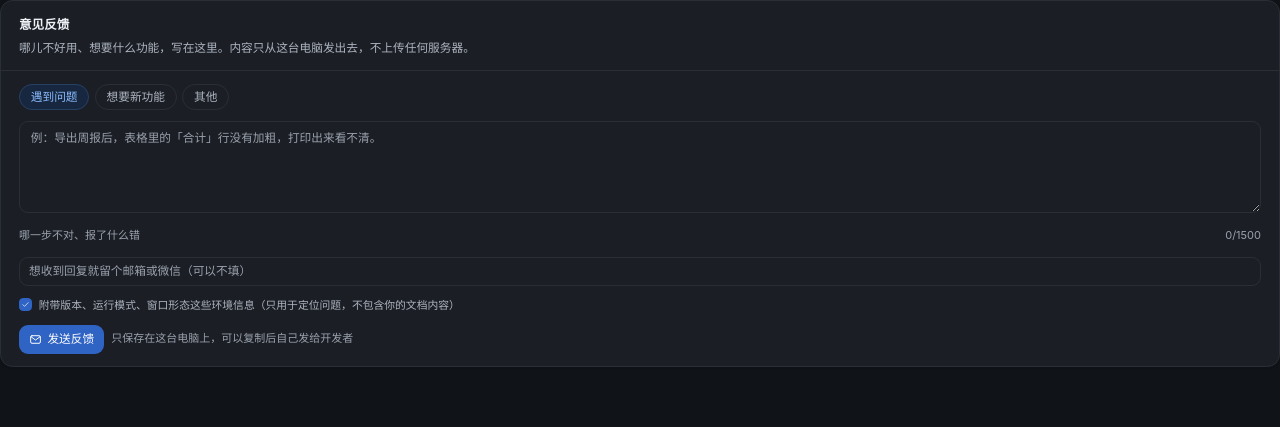
FeedbackCard › 发送时带上类型、内容与环境信息，并显示存档位置
Click the button "想要新功能": (136, 97) [95, 84, 177, 110]
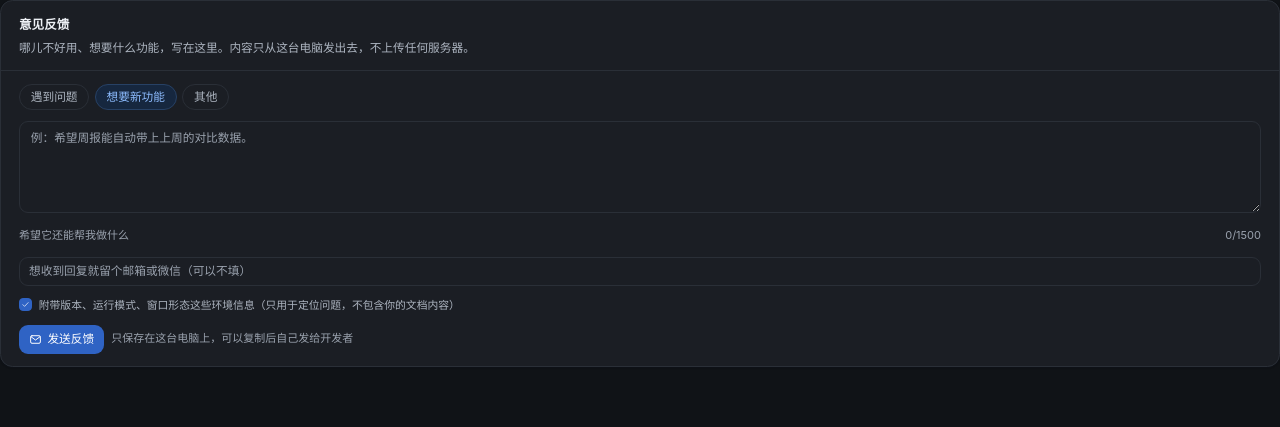
In the text box named "反馈内容": (640, 167) [19, 121, 1261, 213], type "  希望周报能带上去周对比  "
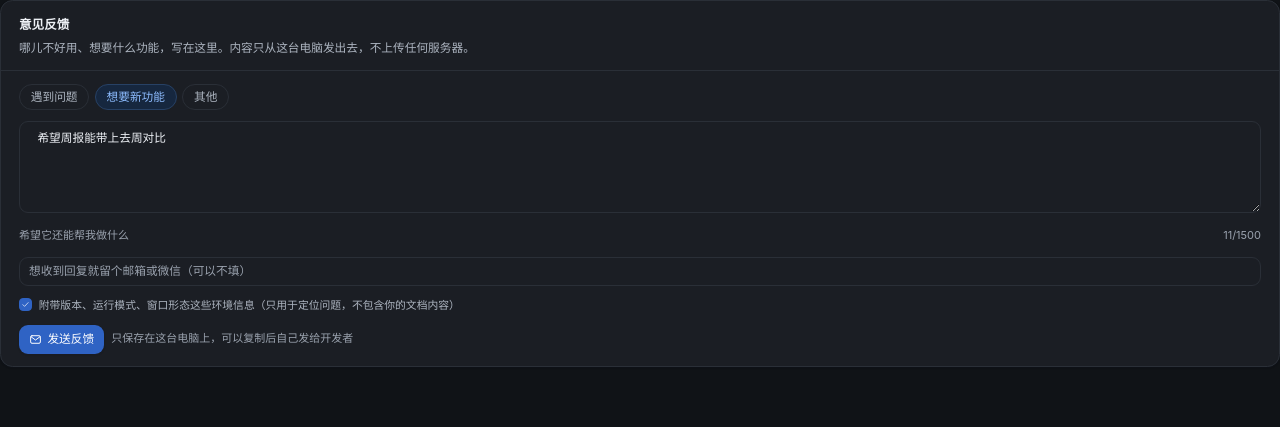
Click the button "发送反馈": (62, 339) [19, 325, 104, 354]
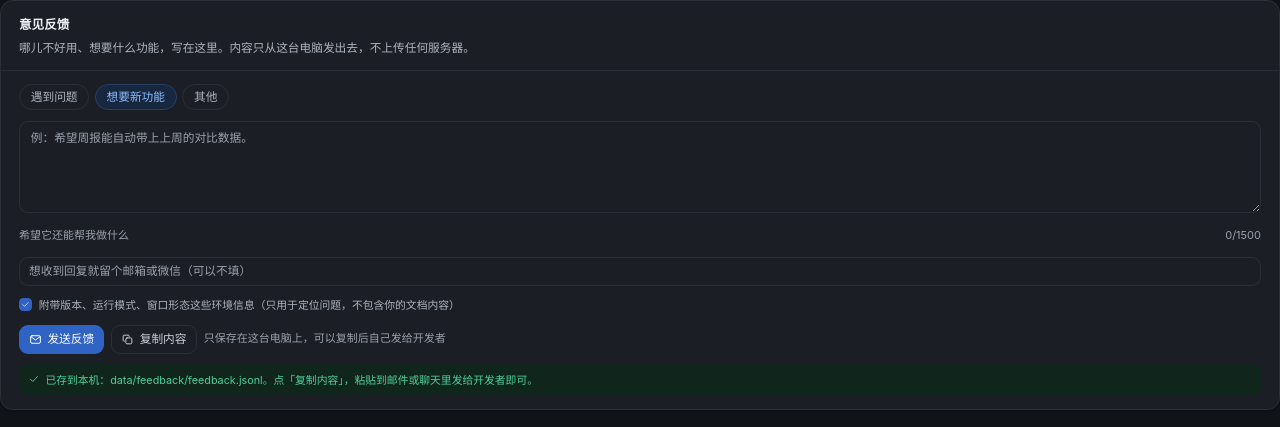
Expected: the text "已存到本机：data/feedback/feedback.jsonl。点「复制内容」，粘贴到邮件或聊天里发给开发者即可。" is shown, [45, 372, 538, 389]
Expected: the button "复制内容" is shown, [111, 325, 196, 354]
